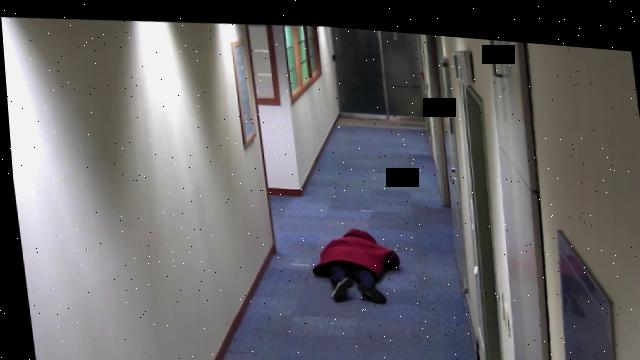fall: (306, 215, 403, 303)
